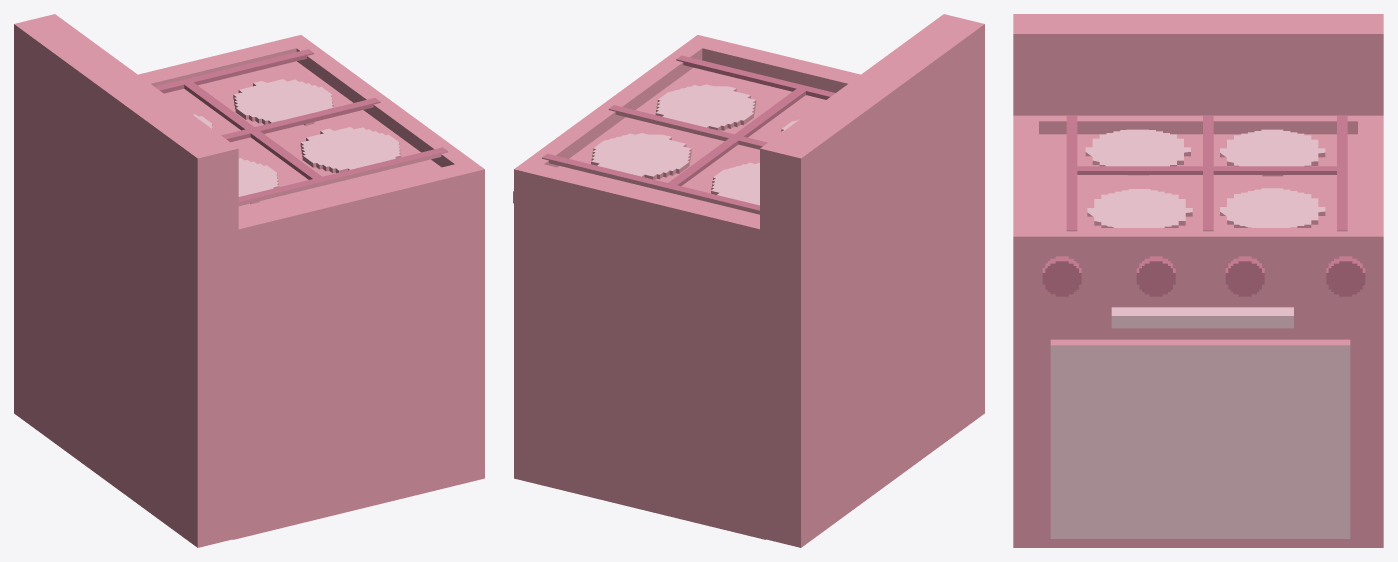
File: estufa.fbx
3 renders of one model, left to right at view 1: azimuth 30°, elevation 25°; view 2: azimuth 150°, elevation 25°; view 3: azimuth 270°, elevation 25°, orthographic.
Visible parts, largest first — view 1: estufa.015; view 2: estufa.015; view 3: estufa.015.
Boxes of the visible parts, box(x1,y1,x2,y2) form: estufa.015: box(14, 14, 484, 547); estufa.015: box(513, 14, 984, 547); estufa.015: box(1013, 14, 1383, 547).
Bounding box in the file's own units: 238 × 292 × 249.
